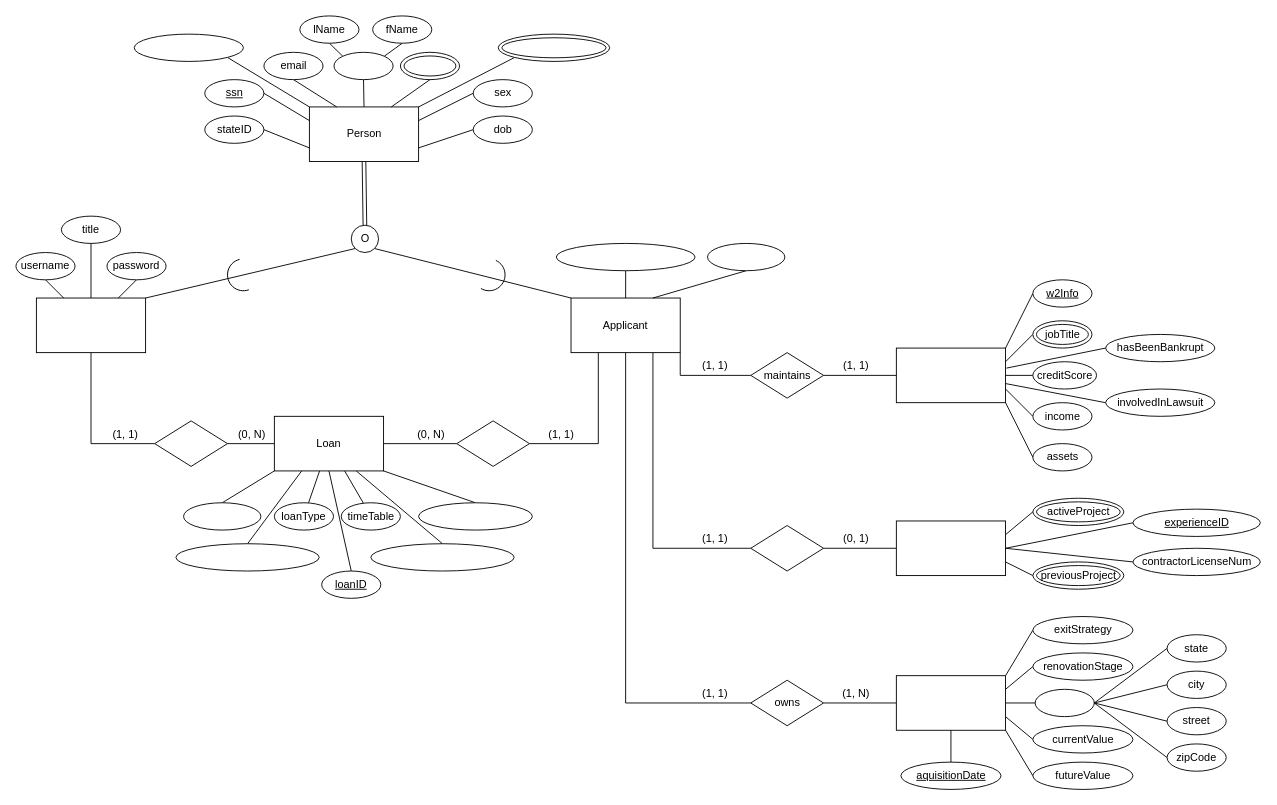
Image size: 1277x805. Some labels were removed from this diagram. The shapes that lost their labels are listed below. From the top down, each one's box as (x1, y1, x2, y2) in pixels, then its label:
(133, 33, 243, 61): proofOfCitizenship
(333, 51, 393, 80): name
(399, 51, 460, 80): phone
(497, 33, 610, 61): collegeDegree
(555, 243, 695, 271): liabilityInsuranceProvider
(707, 243, 785, 271): titleProvider
(35, 297, 146, 353): Employee
(895, 347, 1006, 403): Finances
(154, 420, 228, 466): approvesOf
(456, 420, 530, 466): aquires
(183, 502, 261, 530): purchasePrice
(418, 502, 532, 530): constructionBudget
(175, 543, 319, 571): percentForConstruction
(370, 543, 514, 571): percentForPurchase
(750, 525, 824, 571): possesses
(895, 520, 1006, 576): Experience
(895, 675, 1006, 730): Property
(1034, 688, 1094, 717): address
